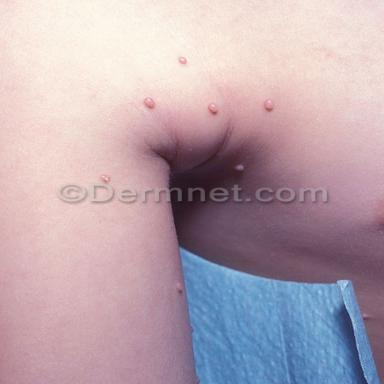Molluscum-Contagiosum: (145, 97, 155, 108), (208, 103, 218, 114), (264, 99, 274, 110), (176, 283, 183, 293), (235, 164, 245, 171), (179, 57, 187, 64)
